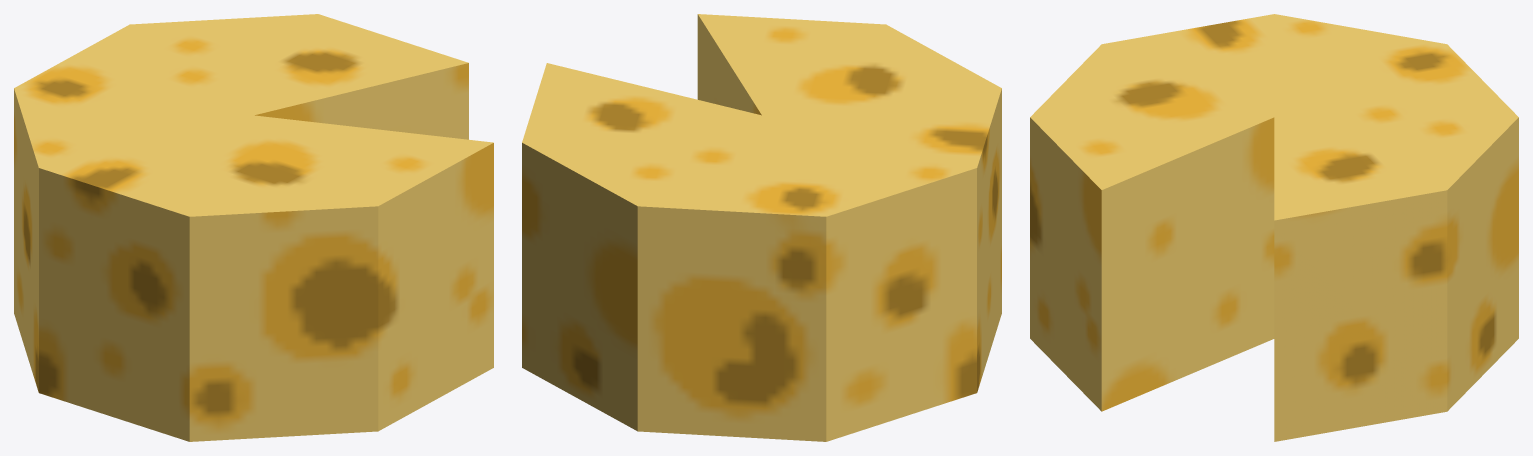
File: cheeseWheel.glb
The picture shows the model from 3 angles, left to right: view 1: azimuth 30°, elevation 25°; view 2: azimuth 150°, elevation 25°; view 3: azimuth 270°, elevation 25°; orthographic projection.
Parts seen in each view (by area): view 1: Cylinder; view 2: Cylinder; view 3: Cylinder.
Boxes of the visible parts, <box> form: Cylinder: <box>14,14,493,441</box>; Cylinder: <box>522,14,1001,441</box>; Cylinder: <box>1030,14,1518,441</box>.
Size of the model in its own units: 4 by 2 by 4.
1 material, 1 textured.
